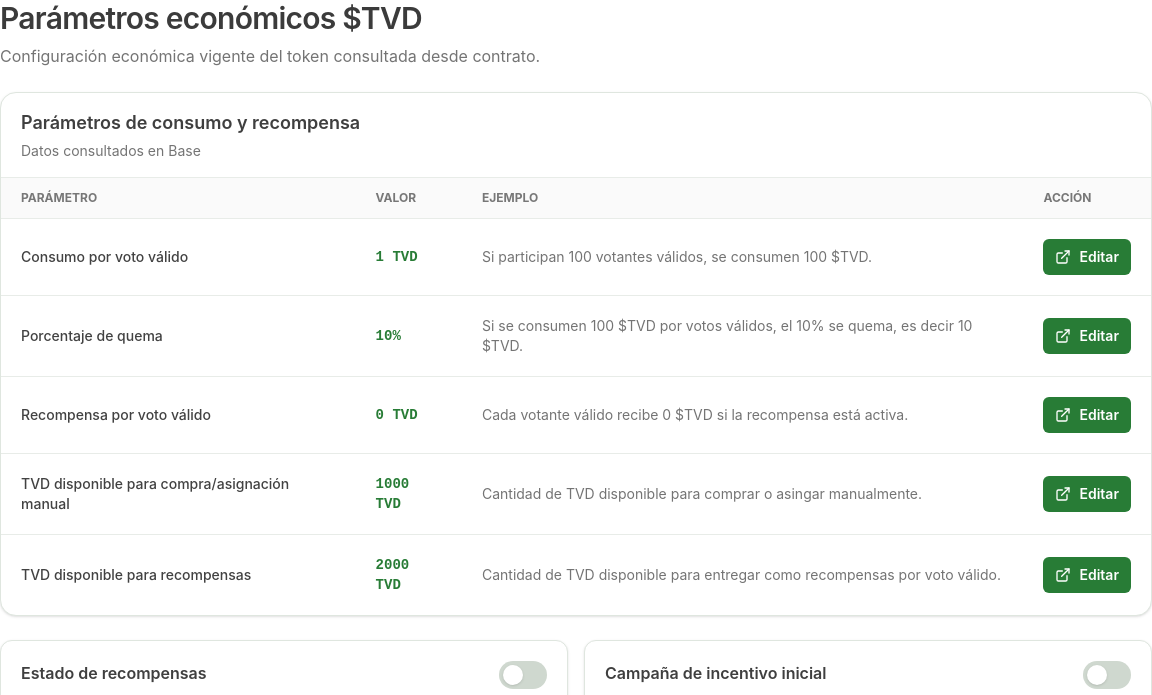
Test: pantallas Superadmin › abre y cierra modal informativo de parámetros económicos
Expected: the text "Consumo por voto válido" is shown, [1,218,356,296]
Expected: the text "Porcentaje de quema" is shown, [1,296,356,376]
Click the button "Editar" in the row of "Consumo por voto válido" at coordinates (1087, 257), box [1044,239,1131,275]
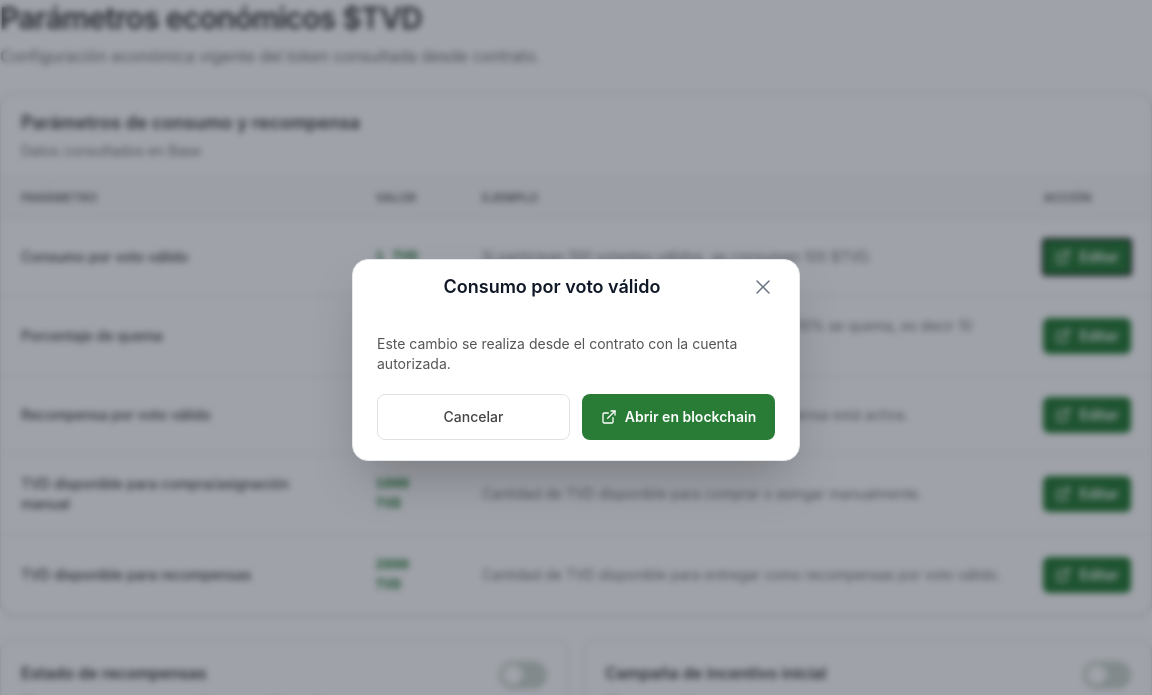
Expected: the dialog "Consumo por voto válido" is shown, [352,259,800,461]
Expected: the text "Este cambio se realiza desde el contrato" is shown, [377,335,737,372]
Expected: the button "Abrir en blockchain" is shown, [582,394,775,440]
Click the button "Cancelar" at coordinates (474, 417), box [377,394,570,440]
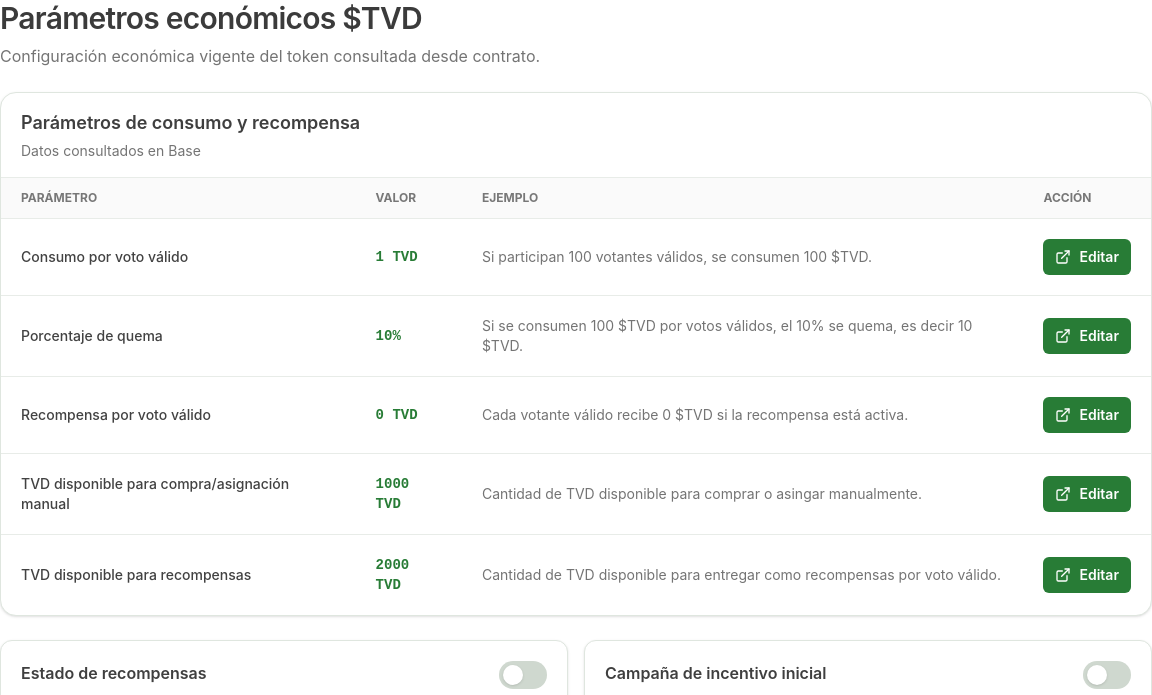
Expected: the dialog is gone
